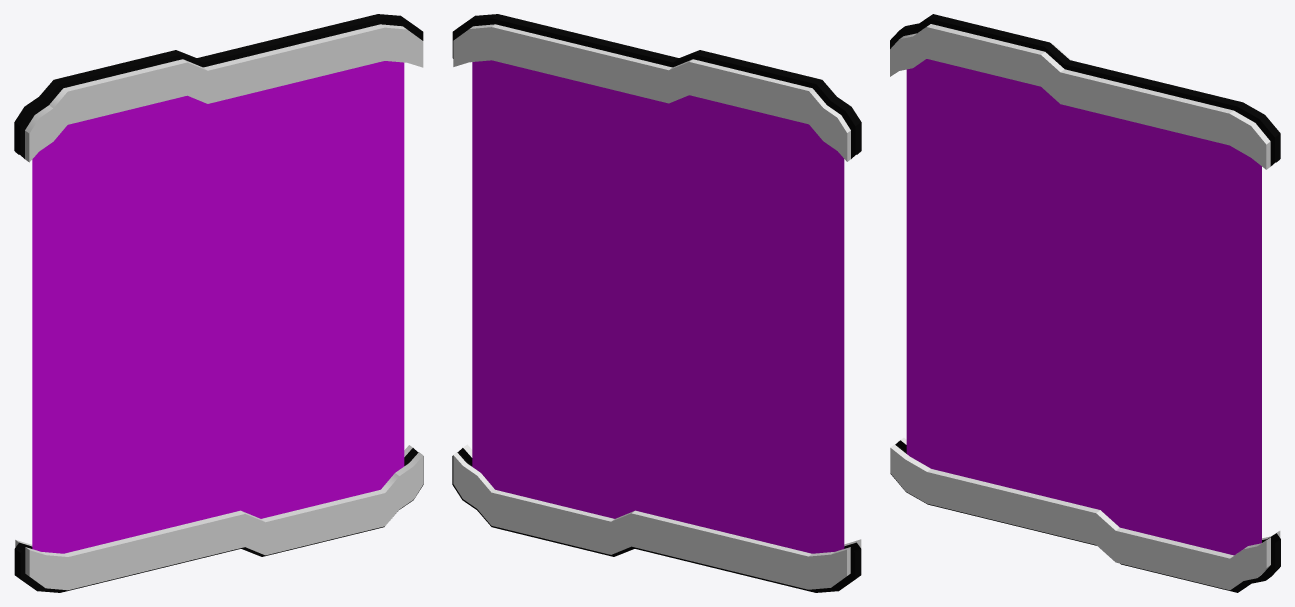
File: Sign.fbx
The picture shows the model from 3 angles, left to right: view 1: azimuth 30°, elevation 25°; view 2: azimuth 150°, elevation 25°; view 3: azimuth 330°, elevation 25°; orthographic projection. The views are drawn at different scales.
Visible parts, largest first — view 1: pCube3; view 2: pCube3; view 3: pCube3.
Boxes of the visible parts, x1,y1,x2,y2 form: pCube3: (14, 14, 423, 592); pCube3: (452, 14, 861, 592); pCube3: (890, 14, 1280, 592).
Size of the model in its own units: 172 by 213 by 10.54.
